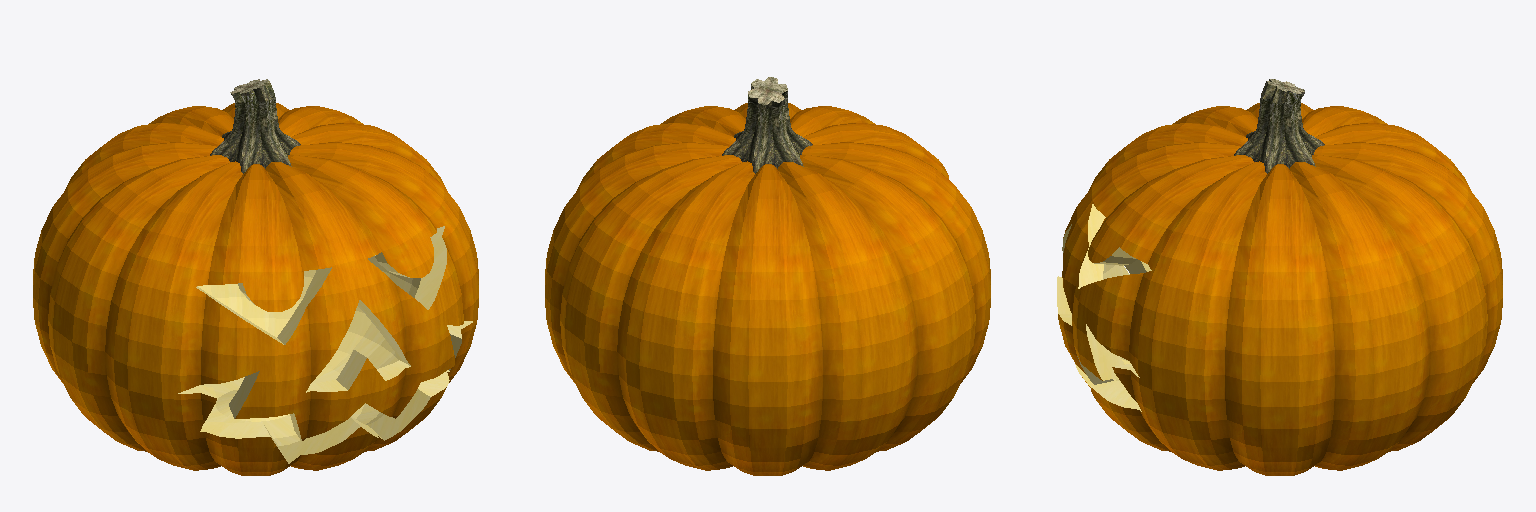
3 renders of one model, left to right at view 1: azimuth 30°, elevation 25°; view 2: azimuth 150°, elevation 25°; view 3: azimuth 270°, elevation 25°, orthographic.
Parts seen in each view (by area): view 1: PumpkinB_001; view 2: PumpkinB_001; view 3: PumpkinB_001.
Part boxes in pixels (x1,y1,x2,y2): PumpkinB_001: (33,79,478,475); PumpkinB_001: (545,77,990,475); PumpkinB_001: (1057,79,1502,475).
Size of the model in its own units: 105 by 90.11 by 105.
4 materials, 4 textured.